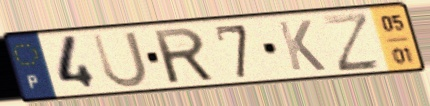4: (54, 33, 102, 94)
7: (212, 23, 250, 79)
K: (274, 18, 329, 73)
R: (150, 25, 218, 86)
U: (88, 29, 151, 91)
Z: (319, 10, 384, 75)
